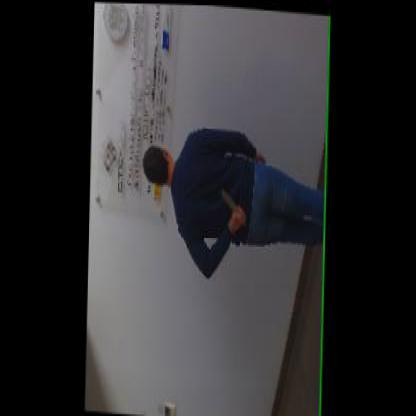knife: (217, 183, 246, 224)
